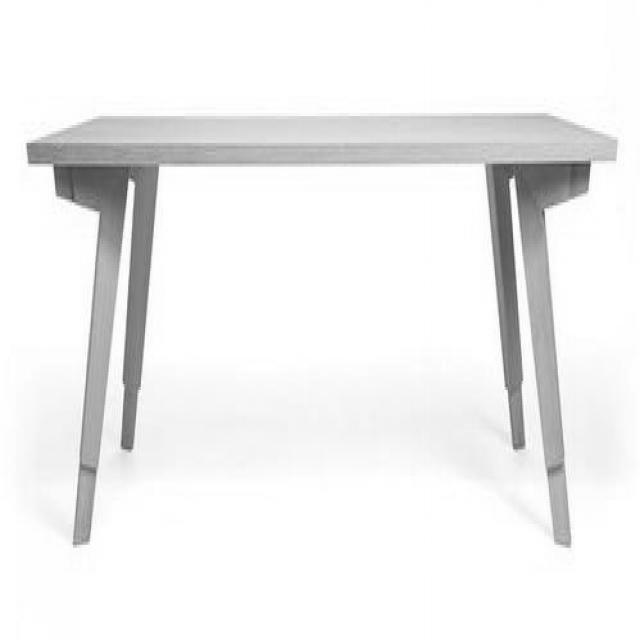table: (28, 113, 618, 544)
